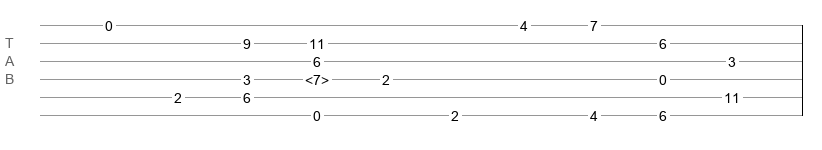0: (105, 18, 113, 28), (313, 108, 321, 118), (659, 72, 667, 82)
11: (309, 36, 325, 46), (724, 90, 740, 100)
2: (174, 90, 182, 100), (382, 72, 390, 82), (451, 108, 459, 118)
3: (243, 72, 251, 82), (728, 54, 736, 64)
4: (520, 18, 528, 28), (590, 108, 598, 118)
6: (243, 90, 251, 100), (313, 54, 321, 64), (659, 108, 667, 118), (659, 36, 667, 46)
7: (590, 18, 598, 28)
9: (243, 36, 251, 46)
harmonic: (305, 72, 329, 82)
